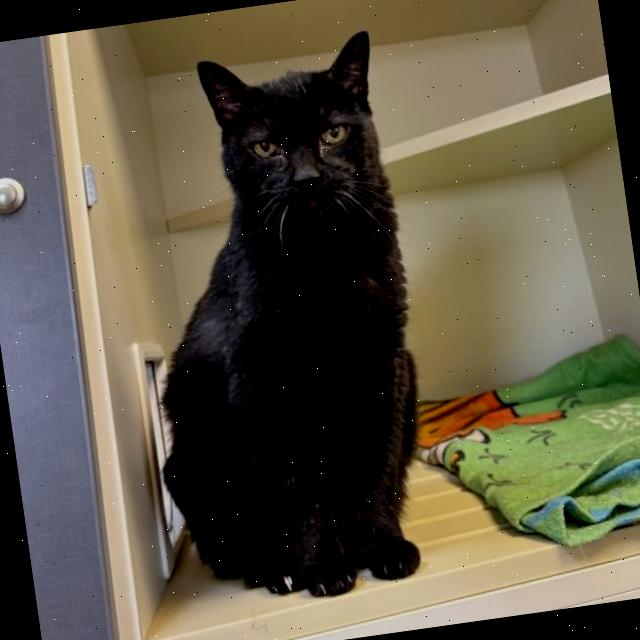american_shorthair_cat: (187, 23, 406, 262)
